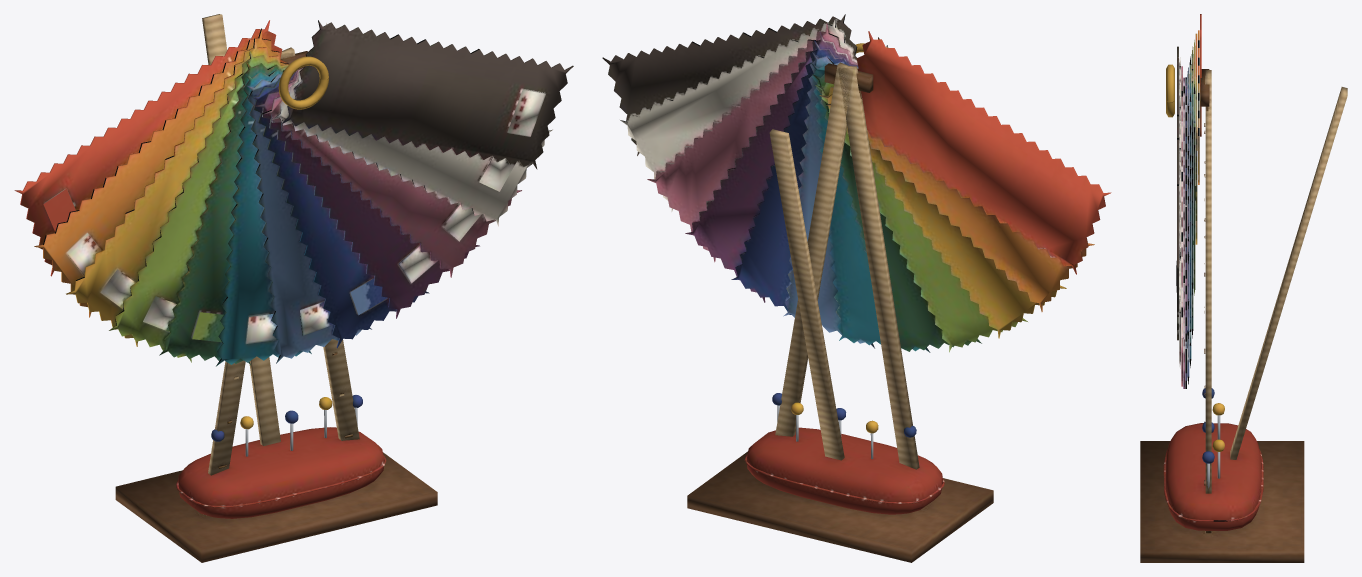
Rendered from sled_book.glb.
3 views of the same model, side by side, from view 1: azimuth 30°, elevation 25°; view 2: azimuth 150°, elevation 25°; view 3: azimuth 270°, elevation 25° (orthographic). The views are drawn at different scales.
Visible parts, largest first — view 1: prop_sled_book_felt, prop_sled_book_wood, prop_sled_book_brass; view 2: prop_sled_book_felt, prop_sled_book_wood; view 3: prop_sled_book_wood, prop_sled_book_felt, prop_sled_book_brass, prop_sled_book_steel.
Boxes of the visible parts, x1=… form: prop_sled_book_felt: x1=14, y1=20, x2=573, y2=518; prop_sled_book_wood: x1=115, y1=14, x2=437, y2=562; prop_sled_book_brass: x1=278, y1=56, x2=328, y2=109; prop_sled_book_felt: x1=602, y1=14, x2=1111, y2=514; prop_sled_book_wood: x1=687, y1=62, x2=993, y2=562; prop_sled_book_wood: x1=1140, y1=69, x2=1347, y2=562; prop_sled_book_felt: x1=1163, y1=14, x2=1263, y2=530; prop_sled_book_brass: x1=1166, y1=64, x2=1174, y2=117; prop_sled_book_steel: x1=1207, y1=415, x2=1220, y2=488.
Bounding box in the file's own units: 3.48 × 3.16 × 1.2.
4 materials, 2 textured.
